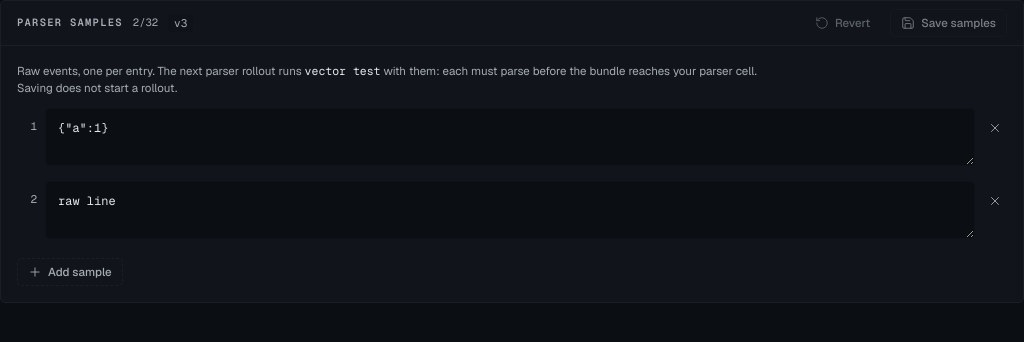
ParserSamplesEditor › refuses an oversized sample before sending, and Revert restores the saved copy
Replace the text in the text box named "Sample 1" with "0123456789" at (510, 137), box [45, 108, 975, 166]
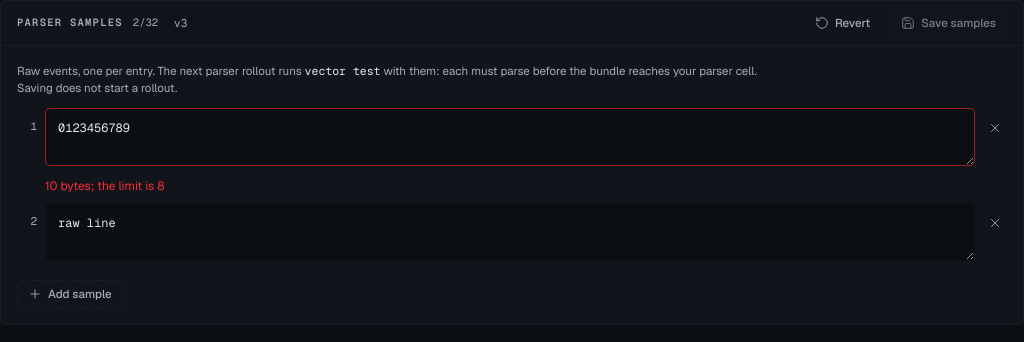
Expected: the button "Save samples" is disabled, [890, 9, 1007, 37]
Result: the message reads "10 bytes; the limit is 8" at [45, 178, 164, 194]
Click the button "Revert".
click(843, 23)  # box [805, 9, 880, 37]
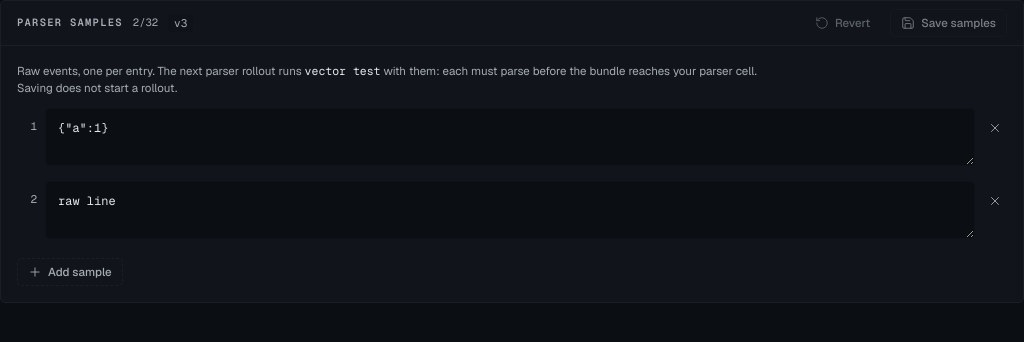
Result: the text box named "Sample 1" holds "{\"a\":1}" at [45, 108, 975, 166]
